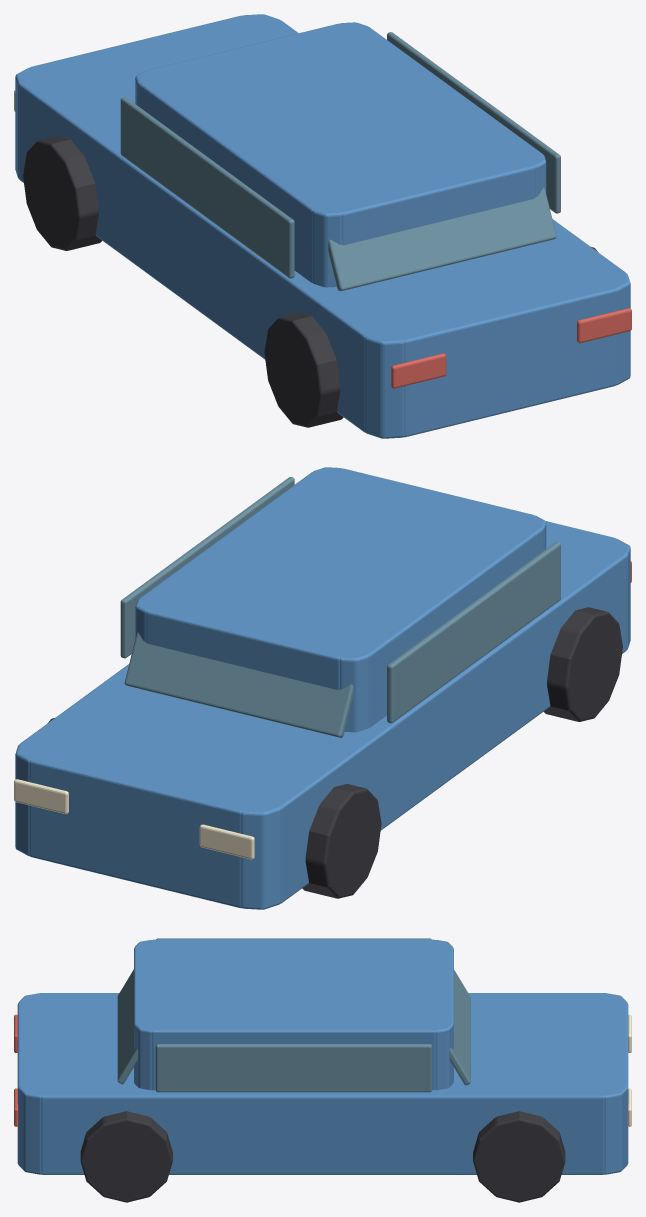
The model's file is CarBlue.fbx.
The picture shows the model from 3 angles, top to bottom: view 1: azimuth 30°, elevation 25°; view 2: azimuth 150°, elevation 25°; view 3: azimuth 270°, elevation 25°; orthographic projection. The views are drawn at different scales.
Parts seen in each view (by area): view 1: CarBlue; view 2: CarBlue; view 3: CarBlue.
Part boxes in pixels (x1,y1,x2,y2): CarBlue: [14, 14, 631, 438]; CarBlue: [14, 467, 631, 909]; CarBlue: [14, 938, 631, 1202].
Bounding box in the file's own units: 196 × 120 × 425.
